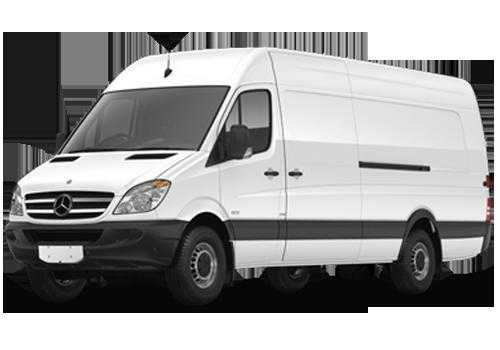van: (6, 47, 493, 304)
